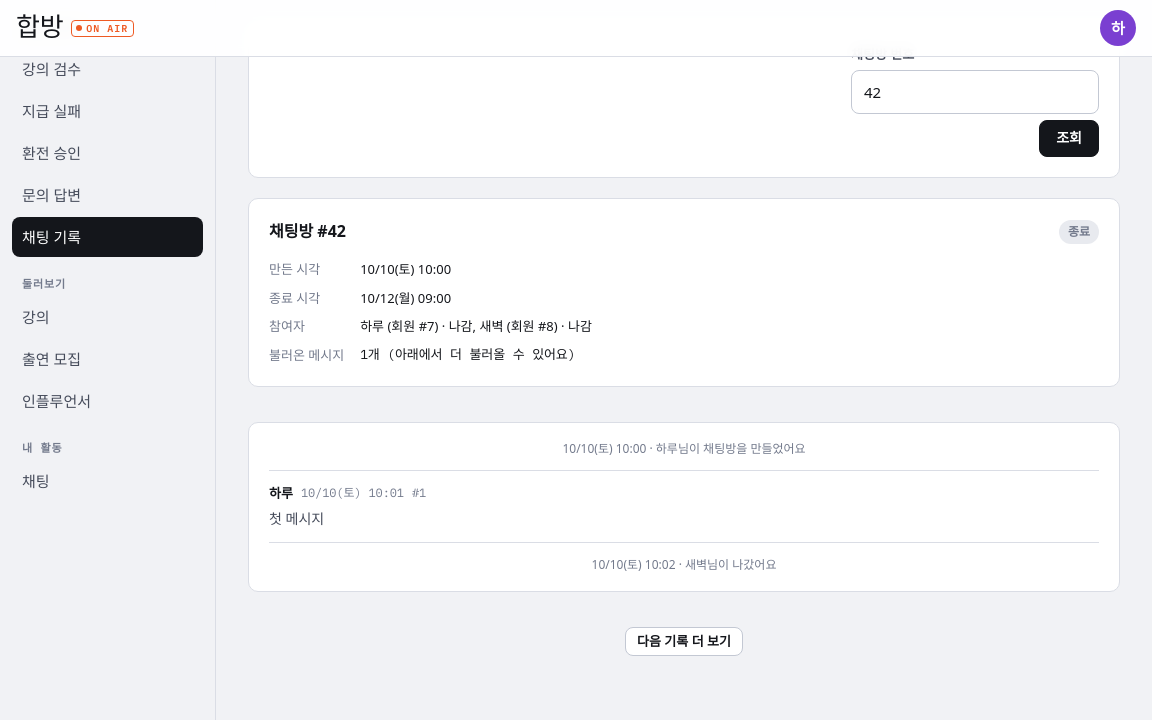
Test case: 관리자 채팅 기록 › 여러 페이지에 나뉜 기록을 이어 받아 빠짐·중복 없이 시간순으로 보여 준다
(page scrolled)
Expected: the number of list items is 3, top-left (562, 440), bottom-right (806, 457); top-left (269, 470), bottom-right (1099, 542); top-left (269, 542), bottom-right (1099, 586)
Expected: the text "불러온 메시지" is shown, top-left (269, 345), bottom-right (344, 366)
Click the button "다음 기록 더 보기" at point(684, 641), box top-left (625, 626), bottom-right (743, 656)
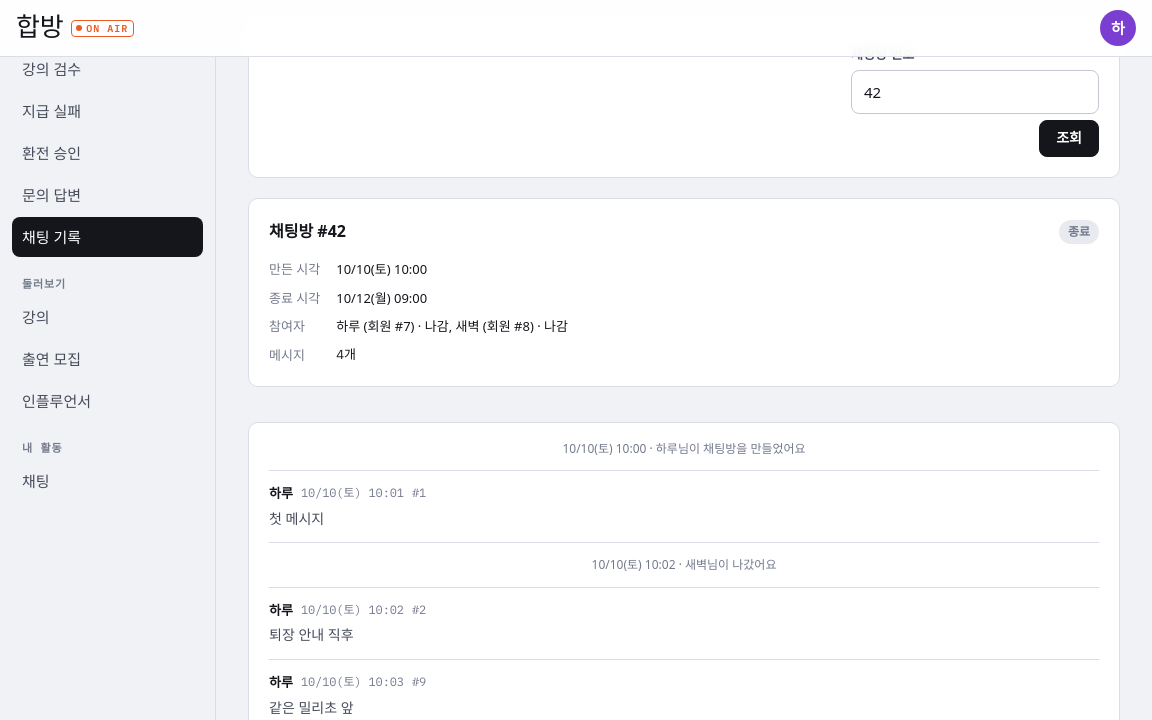
Result: the number of list items is 6
Result: the list item "하루 10/10(토) 10:02 #2 퇴장 안내 직후" is shown at top-left (269, 586), bottom-right (1099, 659)
Result: the button "다음 기록 더 보기" is gone
